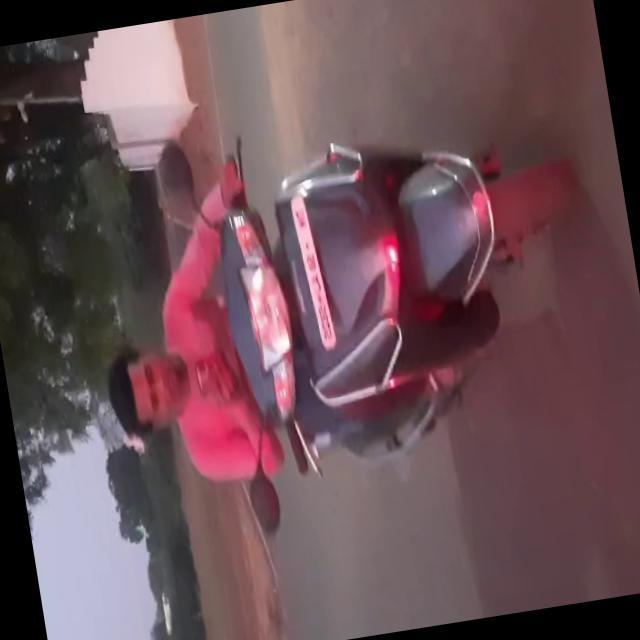USING_MOBILE: (96, 329, 270, 490)
